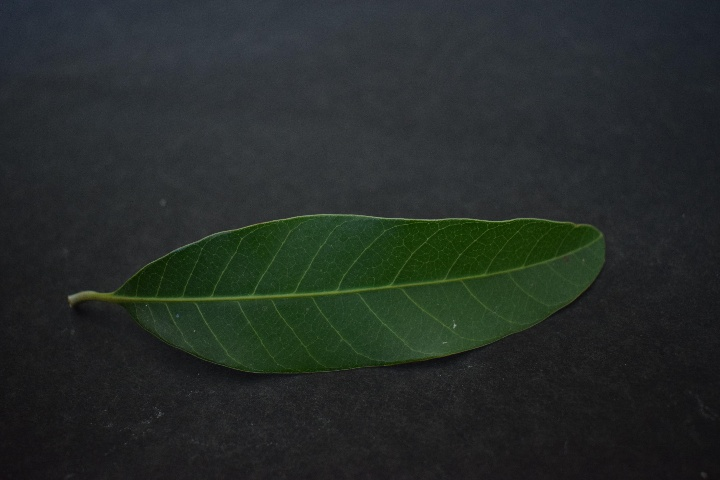healthy: (113, 207, 614, 365)
